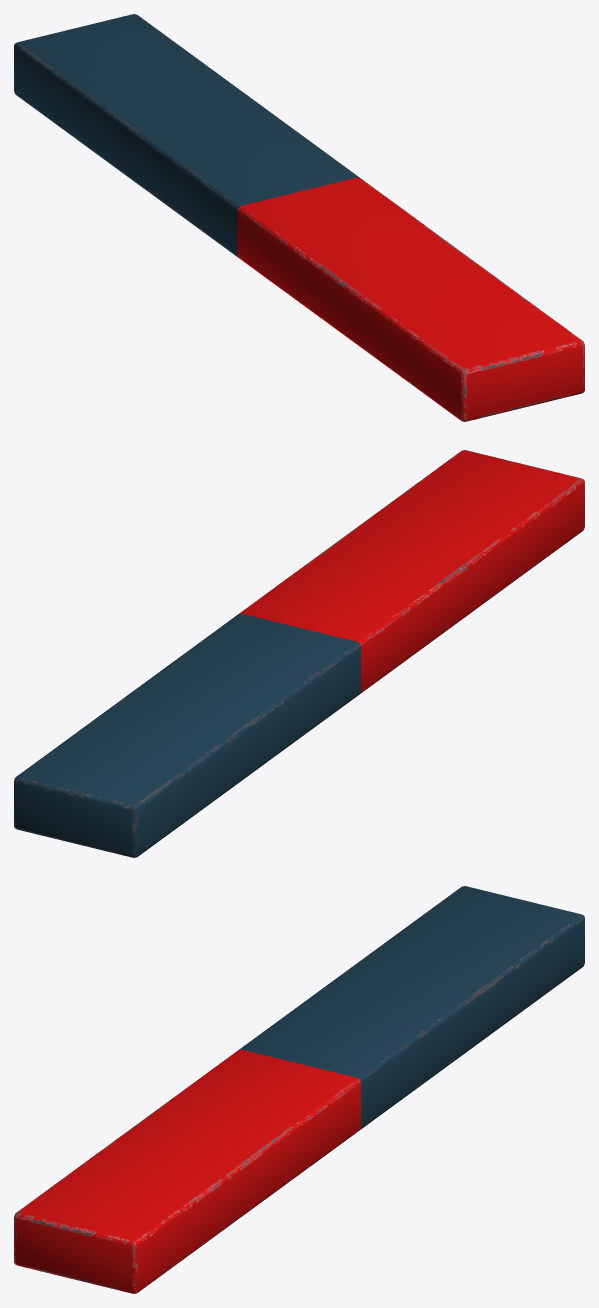
The model's file is polarity magnet only.fbx.
The picture shows the model from 3 angles, top to bottom: view 1: azimuth 30°, elevation 25°; view 2: azimuth 150°, elevation 25°; view 3: azimuth 330°, elevation 25°; orthographic projection.
Visible parts, largest first — view 1: Cube; view 2: Cube; view 3: Cube.
Part boxes in pixels (left/top/right/bottom): Cube: left=14, top=14, right=584, bottom=421; Cube: left=14, top=450, right=584, bottom=857; Cube: left=14, top=886, right=584, bottom=1293.
Size of the model in its own units: 3.21 by 1.3 by 20.22.
